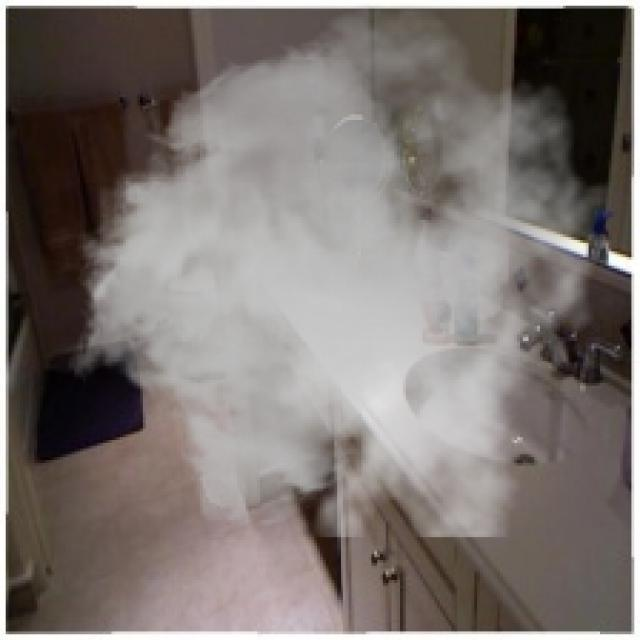Smoke: (66, 2, 612, 538)
